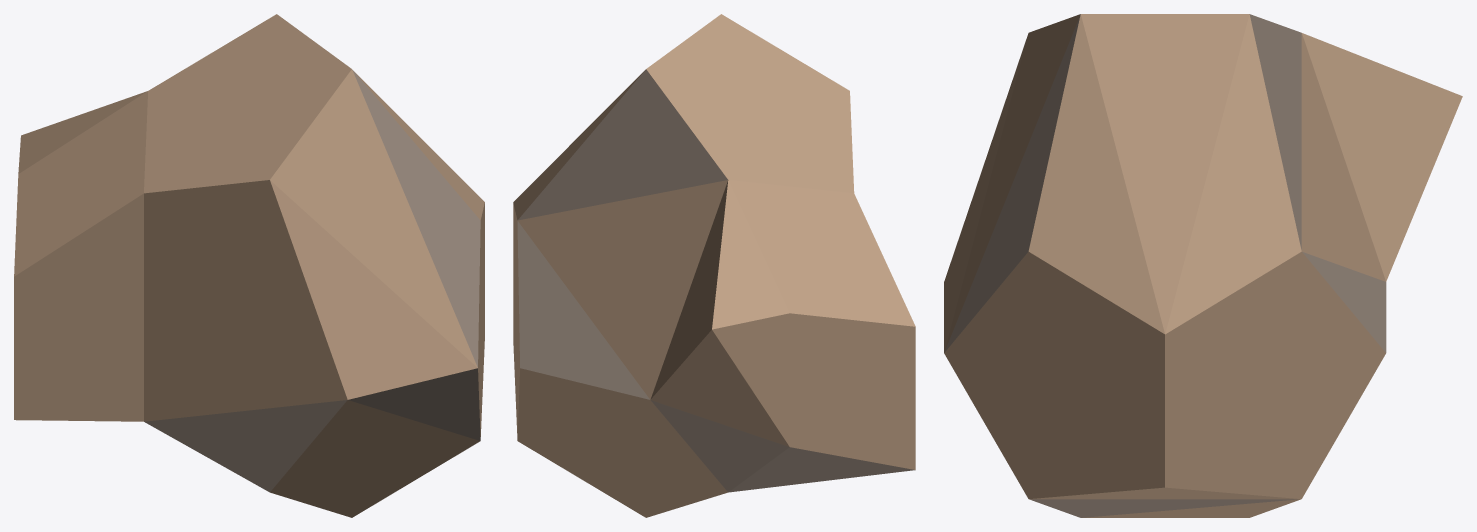
The model's file is Asteroid_1.fbx.
3 views of the same model, side by side, from view 1: azimuth 30°, elevation 25°; view 2: azimuth 150°, elevation 25°; view 3: azimuth 270°, elevation 25° (orthographic). The views are drawn at different scales.
Parts seen in each view (by area): view 1: Asteroid_1; view 2: Asteroid_1; view 3: Asteroid_1.
Part boxes in pixels (x1,y1,x2,y2): Asteroid_1: [14, 14, 484, 517]; Asteroid_1: [513, 14, 915, 517]; Asteroid_1: [944, 14, 1462, 517].
Size of the model in its own units: 2.57 by 2.53 by 2.36.
